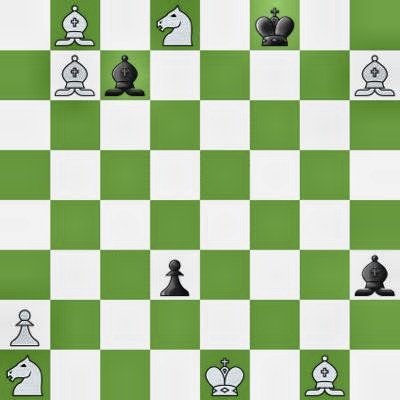black-bishop: (100, 50, 150, 100), (350, 250, 400, 300)
black-king: (250, 0, 300, 50)
black-pawn: (150, 250, 200, 300)
white-bishop: (50, 0, 100, 50), (50, 50, 100, 100), (350, 50, 400, 100), (300, 350, 350, 400)
white-king: (200, 350, 250, 400)
white-knight: (150, 0, 200, 50), (0, 350, 50, 400)
white-pawn: (0, 300, 50, 350)
